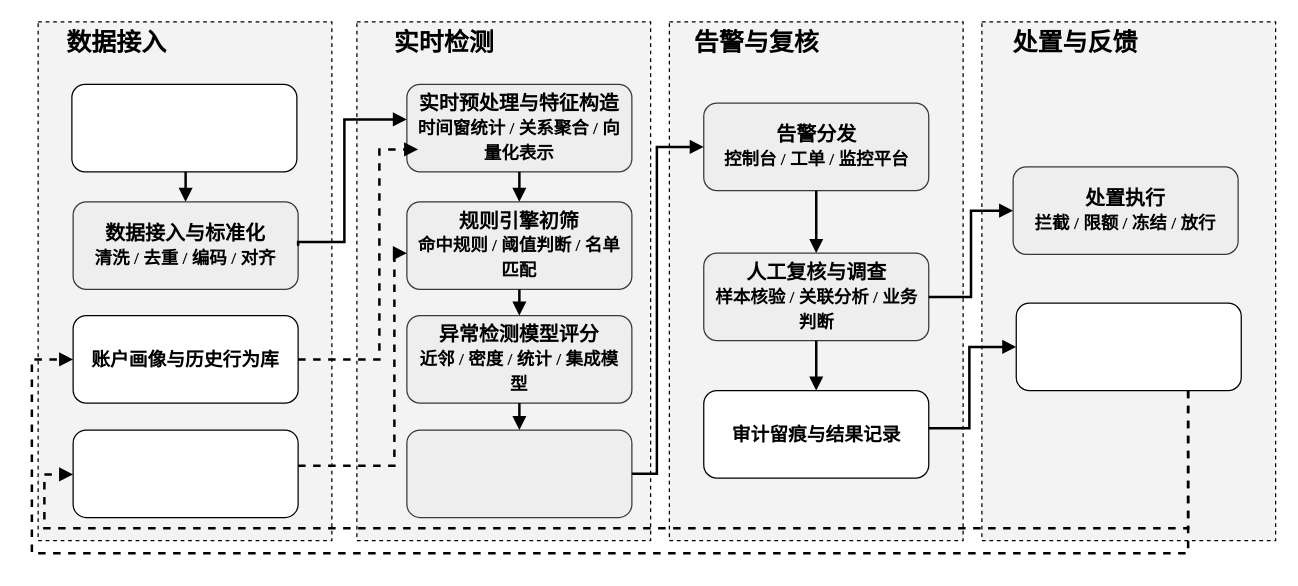
Some shapes in this 1298 by 586 pixel diagram are drawn without their labels. Each missing label, with the box of its shape:
反馈闭环 规则优化 / 模型迭代 / 名单更新: (1015, 302, 1241, 391)
多源业务数据 交易流水 / 账户行为 / 设备日志 / 外部名单: (71, 83, 297, 172)
规则库 / 黑白名单 / 阈值配置: (72, 429, 298, 518)
风险分级与告警生成: (406, 429, 632, 518)
